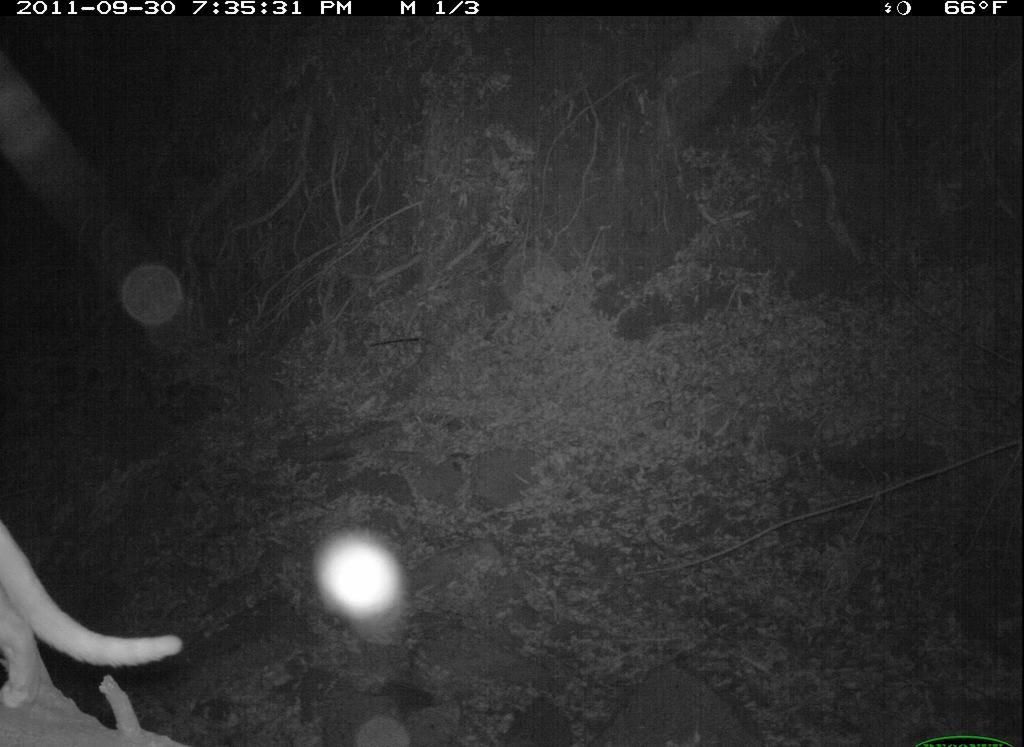cat: (1, 502, 186, 747)
